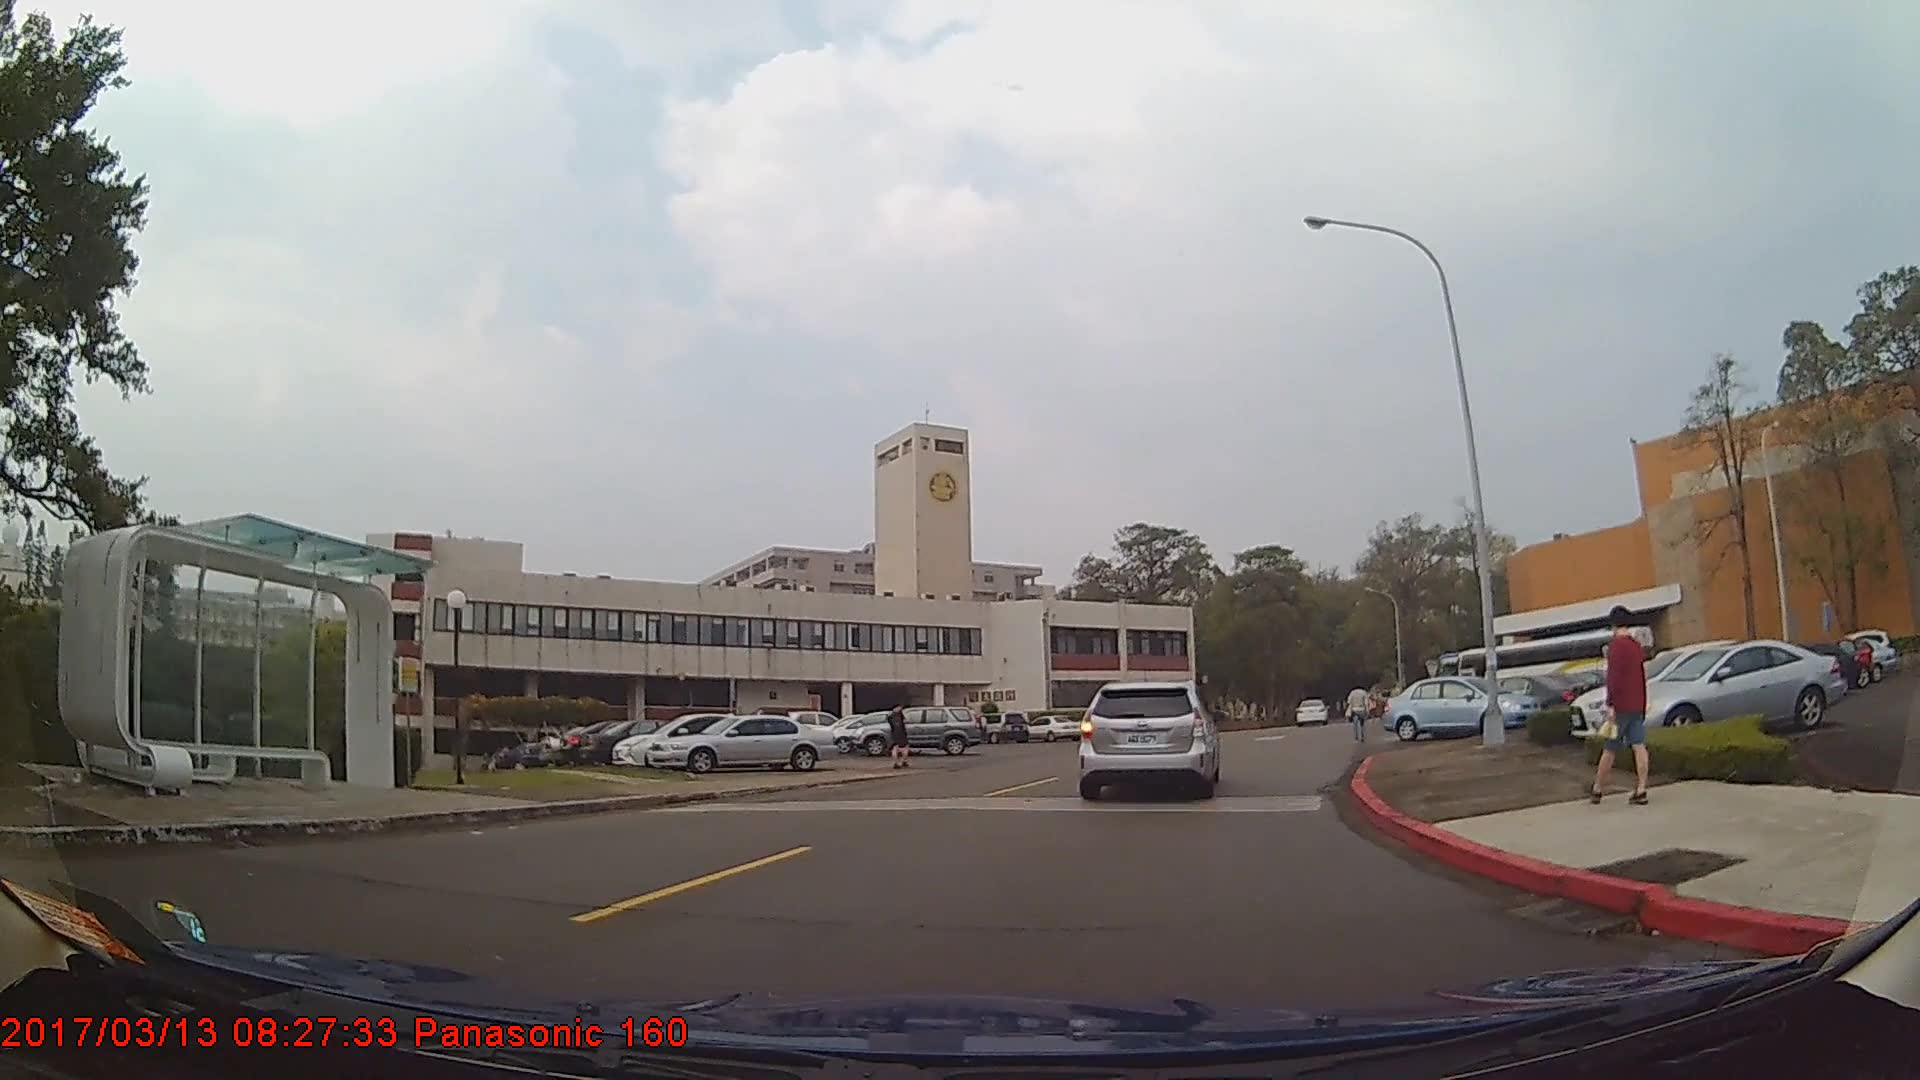pedestrian: (1597, 606, 1657, 816), (887, 701, 916, 772), (1348, 678, 1374, 745)
vehicle: (1568, 642, 1802, 741), (1612, 639, 1844, 738), (1079, 676, 1219, 800), (645, 713, 839, 772), (610, 708, 799, 766), (1379, 672, 1538, 738), (579, 716, 717, 768), (853, 704, 982, 755), (967, 710, 1031, 744), (1295, 693, 1329, 724)
